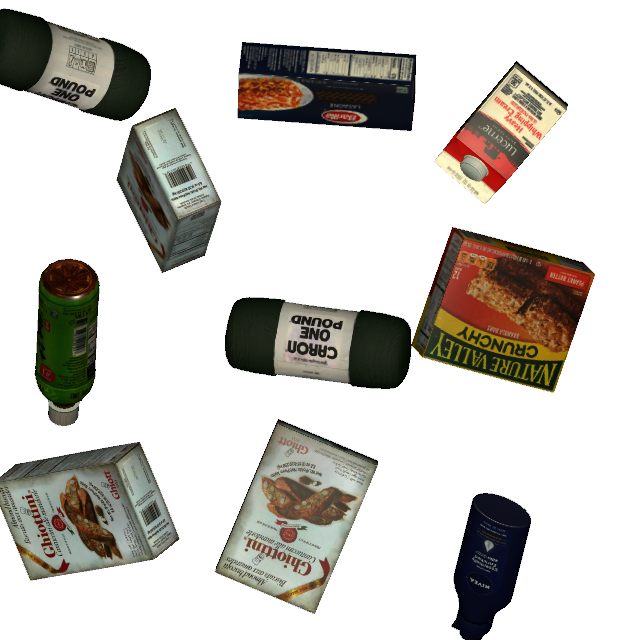craft_yarn_caron: (225, 297, 411, 389), (0, 9, 151, 121)
drink_greentea_itoen: (35, 259, 100, 426)
drink_whippingcream_lucerne: (435, 61, 568, 203)
lotion_essentially_nivea: (451, 493, 531, 640)
pasta_lasagne_barilla: (238, 42, 416, 131)
snack_biscotti_ghiott: (215, 419, 378, 614), (0, 442, 180, 581), (116, 108, 221, 273)
snack_granolabar_naturevalley: (411, 227, 595, 393)
